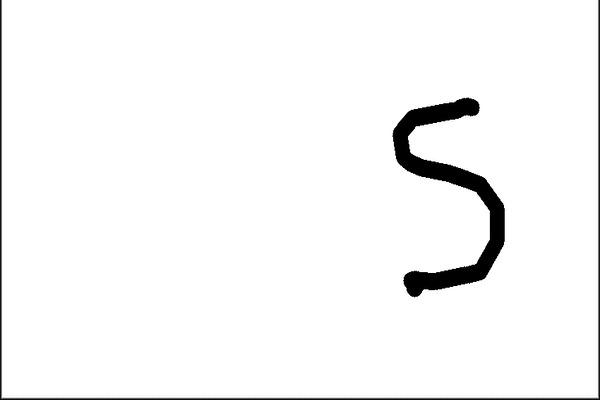S: (386, 93, 510, 304)
